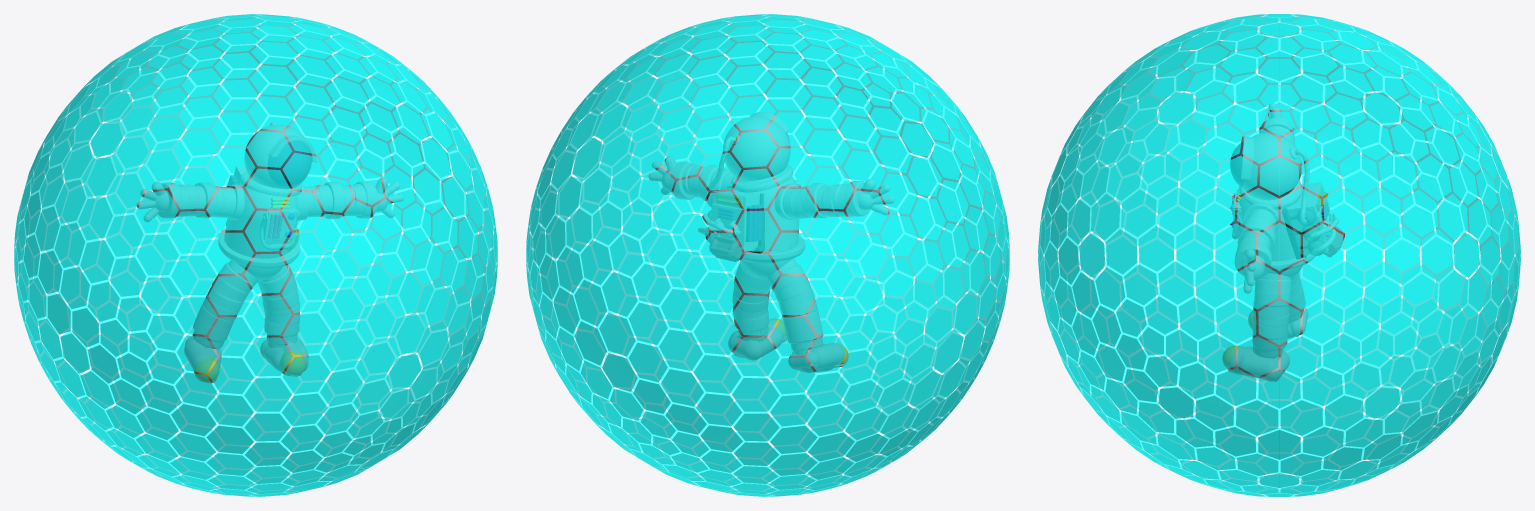
The model's file is astronaut-with-shield.glb.
The picture shows the model from 3 angles, left to right: view 1: azimuth 30°, elevation 25°; view 2: azimuth 150°, elevation 25°; view 3: azimuth 270°, elevation 25°; orthographic projection.
Visible parts, largest first — view 1: Sphere_6, Object_3, Object_5, Object_2, Object_4; view 2: Sphere_6, Object_3, Object_5, Object_4; view 3: Sphere_6, Object_3, Object_5, Object_2, Object_4.
Boxes of the visible parts, x1,y1,x2,y2 form: Sphere_6: (14, 14, 497, 496); Object_3: (137, 122, 366, 382); Object_5: (158, 172, 377, 383); Object_2: (193, 142, 310, 382); Object_4: (376, 177, 403, 217); Sphere_6: (526, 14, 1009, 496); Object_3: (682, 112, 894, 372); Object_5: (670, 133, 869, 368); Object_4: (649, 156, 676, 194); Sphere_6: (1038, 14, 1520, 496); Object_3: (1227, 103, 1344, 381); Object_5: (1229, 118, 1315, 379); Object_2: (1222, 141, 1252, 369); Object_4: (1241, 249, 1265, 293).
Bounding box in the file's own units: 199 × 199 × 199.
